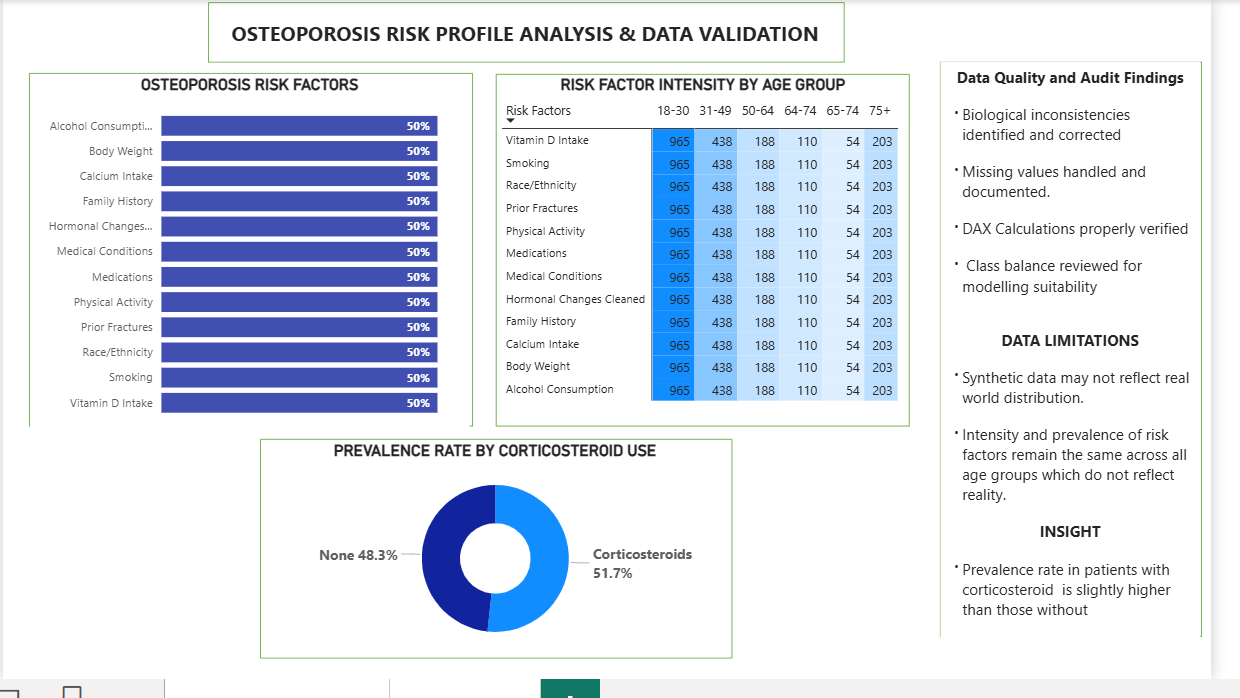

This screenshot's page, from the dashboard's own definition file:
{"tool":"powerbi","page":{"name":"Risk Profile","canvas":[1280,720],"ordinal":1},"visuals":[{"type":"clusteredBarChart","title":"OSTEOPOROSIS RISK FACTORS","fields":{"Category":["Risk Factor chat table.Risk Factors"],"Y":["osteoporosis.Prevalence Rate"]},"box":[28.6,79.5,466,373.8],"z":0},{"type":"pivotTable","title":"RISK FACTOR INTENSITY BY AGE GROUP","fields":{"Rows":["Risk Factor chat table.Risk Factors"],"Columns":["Risk Factor chat table.Age Bucket"],"Values":["CountNonNull(Risk Factor chat table.Id)"]},"box":[523.3,79.5,437.4,373.8],"z":1},{"type":"pieChart","title":"PREVALENCE RATE BY CORTICOSTEROID USE","fields":{"Category":["osteoporosis.Medications"],"Y":["osteoporosis.Prevalence Rate"]},"box":[273.6,467.6,496.3,229],"z":2},{"type":"textbox","box":[994.1,65.2,275.2,612.4],"z":3},{"type":"textbox","box":[219.5,14.3,668.1,50.9],"z":4}]}

Visuals, with their boxes in screenshot pixels (x1, y1, x2, y2), scaled from the page's 1280x720 canvas onto the 1240x698 screenshot:
"OSTEOPOROSIS RISK FACTORS" clusteredBarChart: (28,77,479,439)
"RISK FACTOR INTENSITY BY AGE GROUP" pivotTable: (507,77,931,439)
"PREVALENCE RATE BY CORTICOSTEROID USE" pieChart: (265,453,746,675)
textbox: (963,63,1230,657)
textbox: (213,14,860,63)
